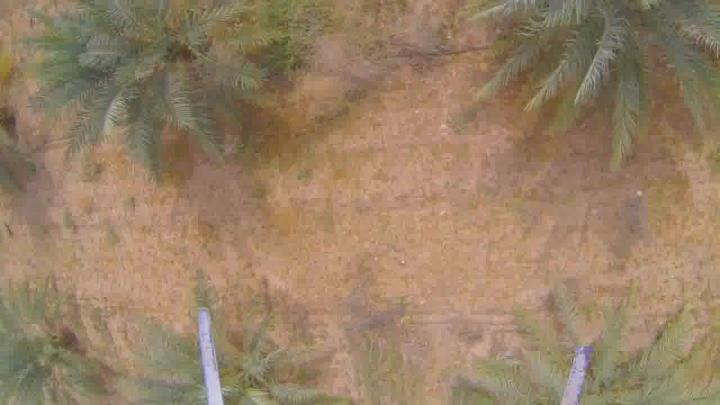Date-Palm-Crown: (65, 0, 271, 138), (518, 0, 720, 110), (502, 322, 720, 404), (168, 318, 318, 404), (0, 291, 88, 405)
